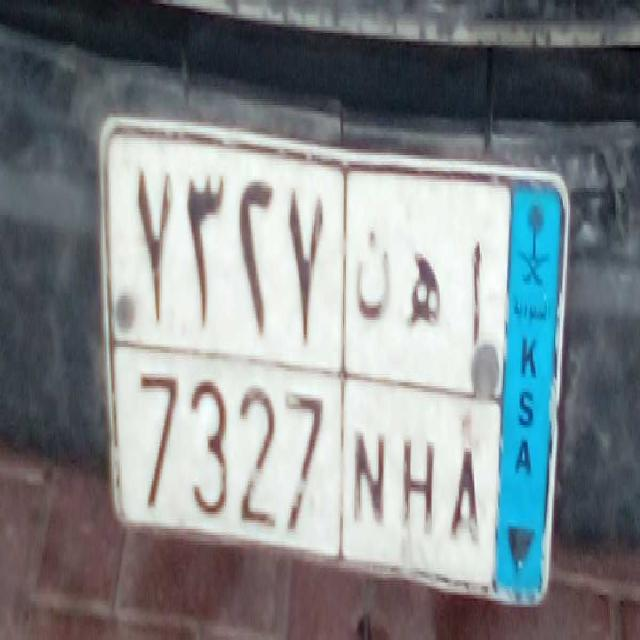license_plate: (117, 350, 498, 613)
